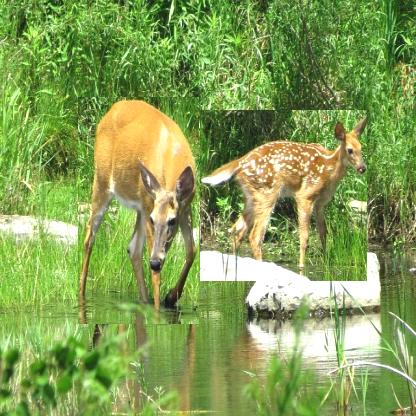Deer: (200, 110, 367, 281), (78, 97, 199, 324)
